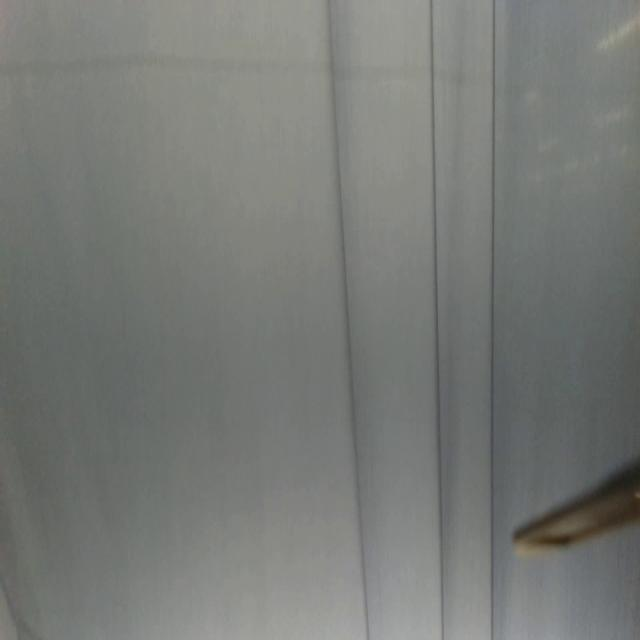color bleeding: (0, 56, 584, 84)
crease: (328, 0, 369, 640), (428, 0, 447, 640), (486, 1, 497, 640)
